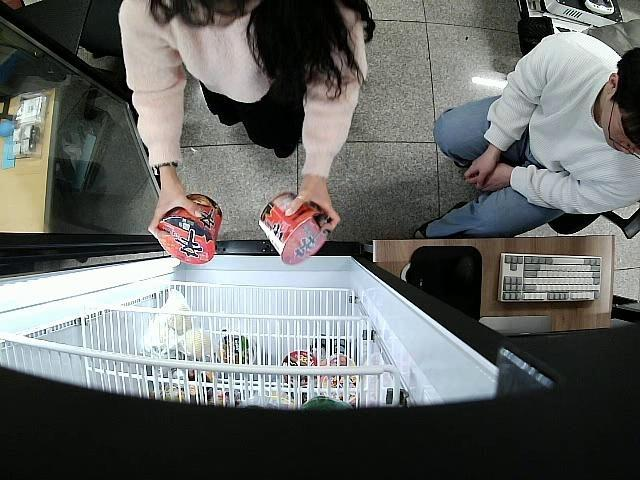01_ShinRamen_L: (256, 190, 332, 266), (156, 192, 222, 265)
